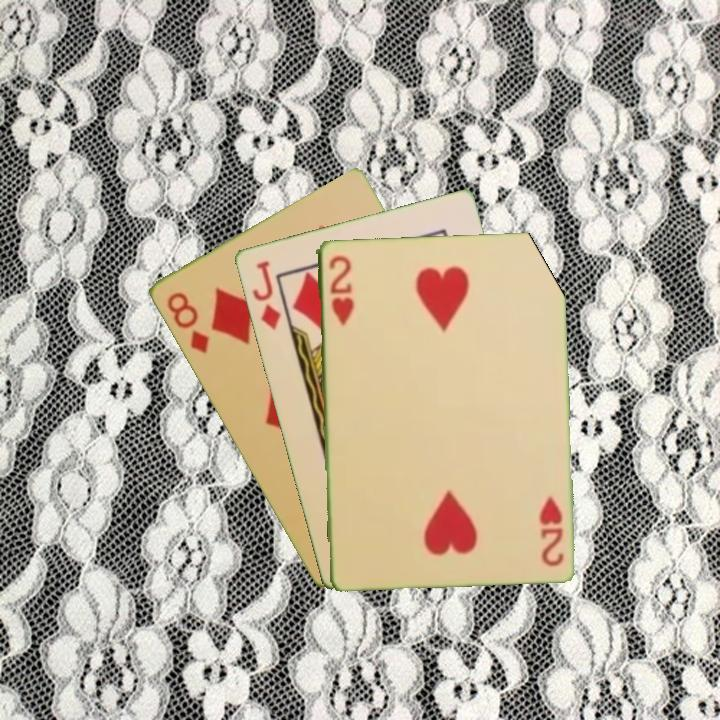2h: (325, 251, 356, 328), (535, 492, 566, 569)
8d: (162, 288, 212, 357)
Jd: (248, 257, 284, 333)
